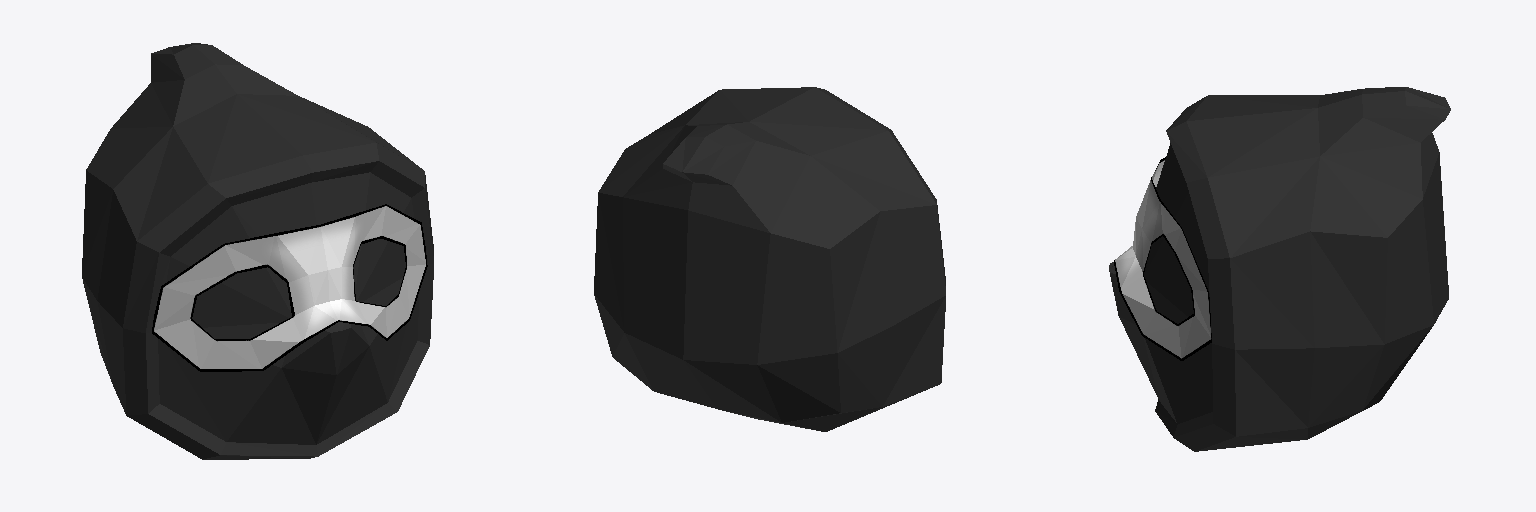
3 renders of one model, left to right at view 1: azimuth 30°, elevation 25°; view 2: azimuth 150°, elevation 25°; view 3: azimuth 270°, elevation 25°, orthographic.
Parts seen in each view (by area): view 1: Student_Character, Mask; view 2: Student_Character; view 3: Student_Character, Mask.
Part boxes in pixels (left/top/right/bottom): Student_Character: left=82, top=43, right=433, bottom=459; Mask: left=152, top=204, right=427, bottom=371; Student_Character: left=594, top=87, right=945, bottom=431; Student_Character: left=1109, top=87, right=1450, bottom=451; Mask: left=1114, top=157, right=1211, bottom=360.
Size of the model in its own units: 5.15 by 5.22 by 4.91.
2 materials, 1 textured.